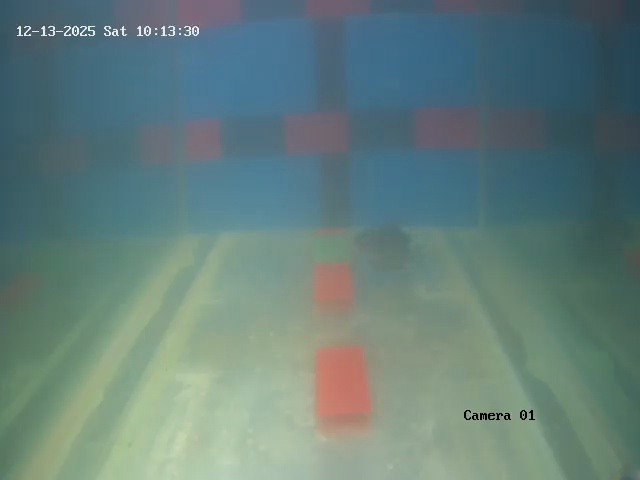fish: (348, 223, 430, 276)
